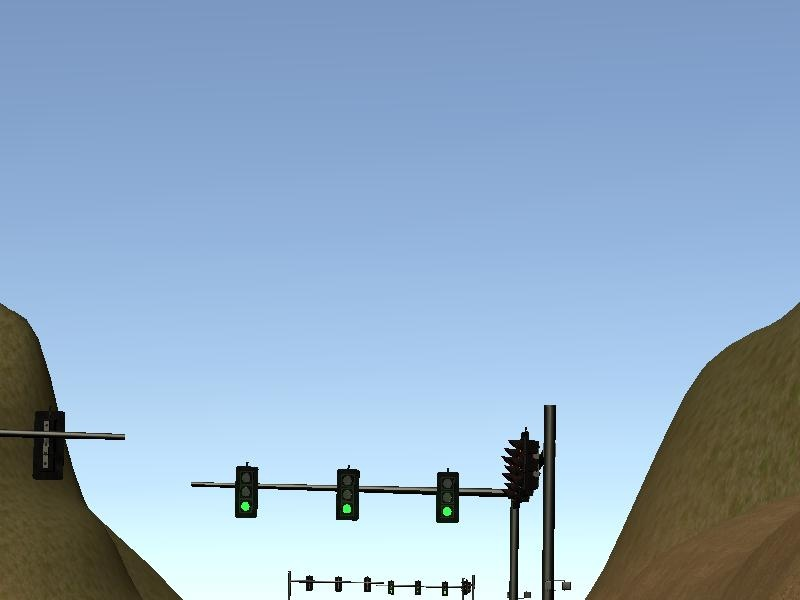green: (336, 468, 360, 520), (235, 465, 258, 519), (436, 472, 458, 523)
